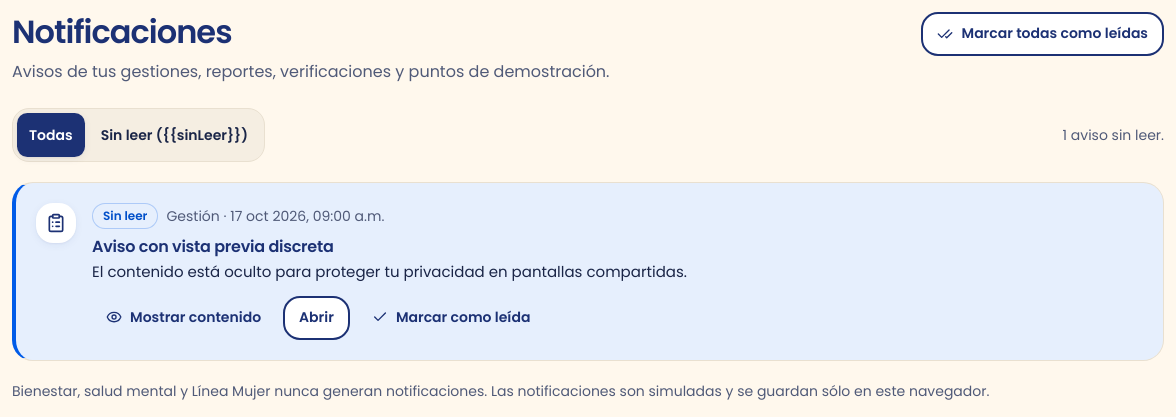
Test: NotificationsPage › las notificaciones sensibles muestran una vista previa discreta hasta que la persona decide verlas
The width and height of the screenshot is (1176, 417).
Expected: the heading "Aviso con vista previa discreta" is shown, left=92, top=235, right=334, bottom=258
Expected: the text "Detalle privado de prueba" is not shown
Click the button "Mostrar contenido" at (184, 318), box left=92, top=296, right=275, bottom=340
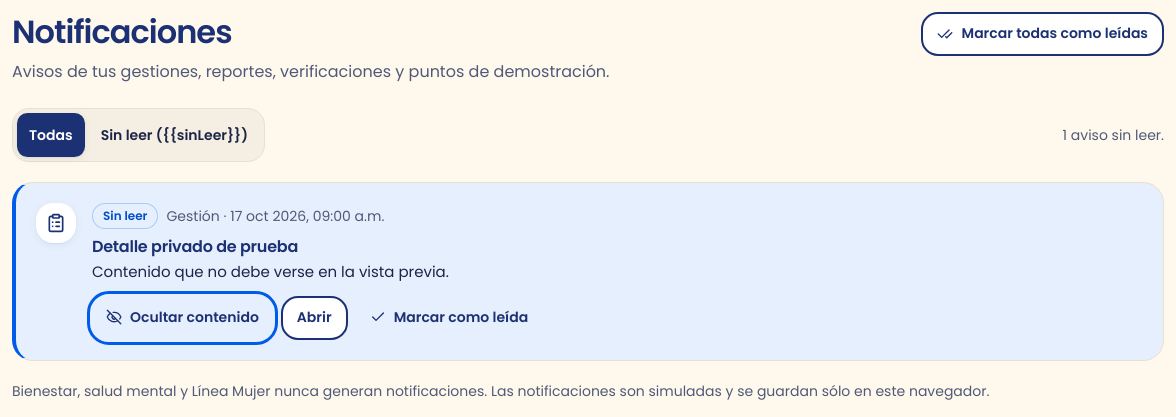
Now the heading "Detalle privado de prueba" is shown, box left=92, top=235, right=298, bottom=258
Now the button "Ocultar contenido" is expanded, box left=92, top=296, right=273, bottom=340
